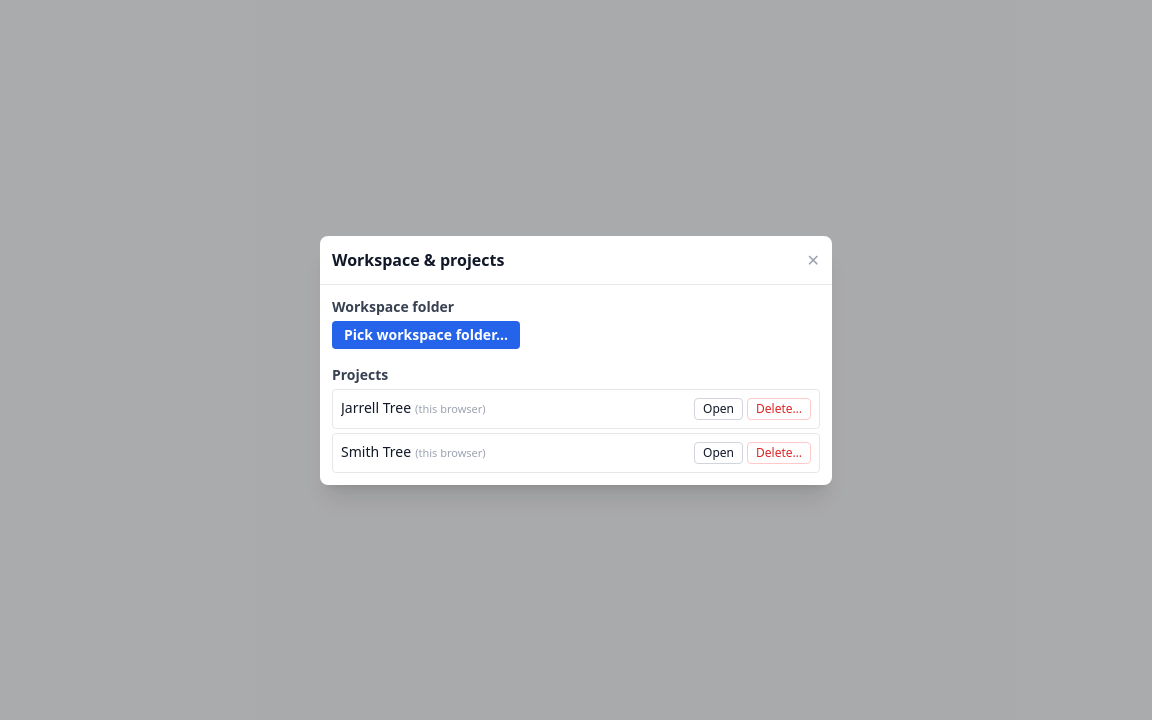
Test case: WorkspaceModal - deleting a project › cancels without deleting, and re-arms cleanly
Click the button "Delete…" in the row of "Jarrell Tree" at x=779, y=408, box top-left (747, 398), bottom-right (811, 420)
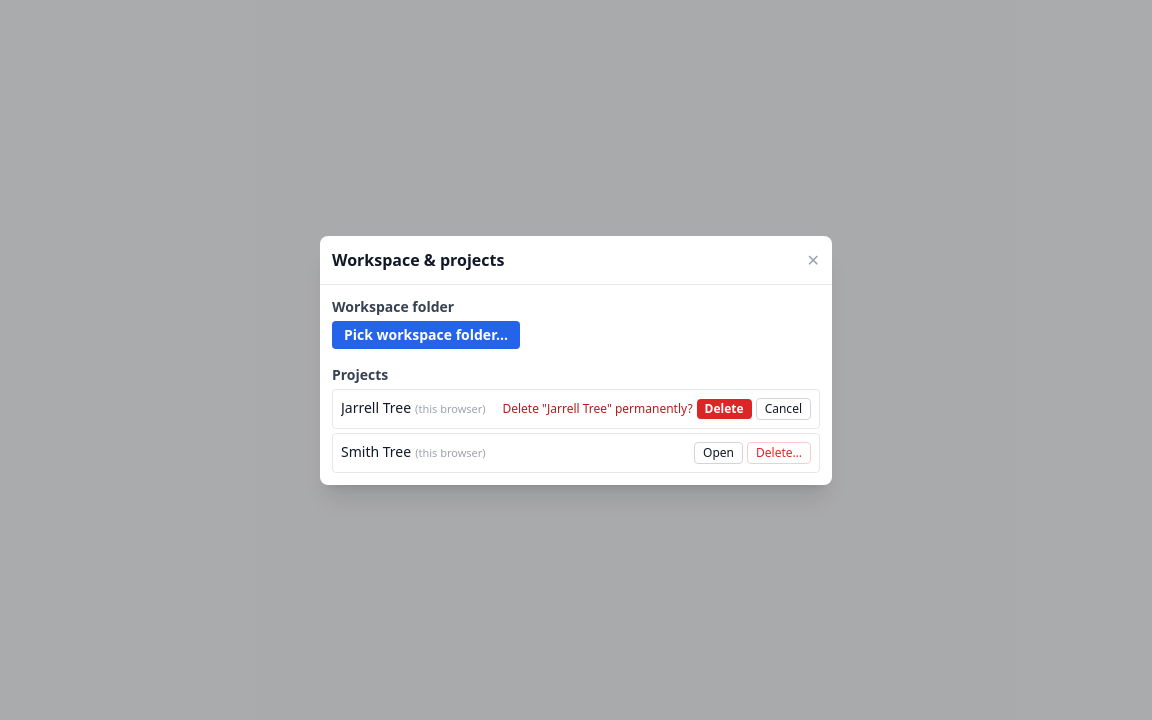
Click the button "Cancel" at x=783, y=408, box top-left (756, 398), bottom-right (811, 420)
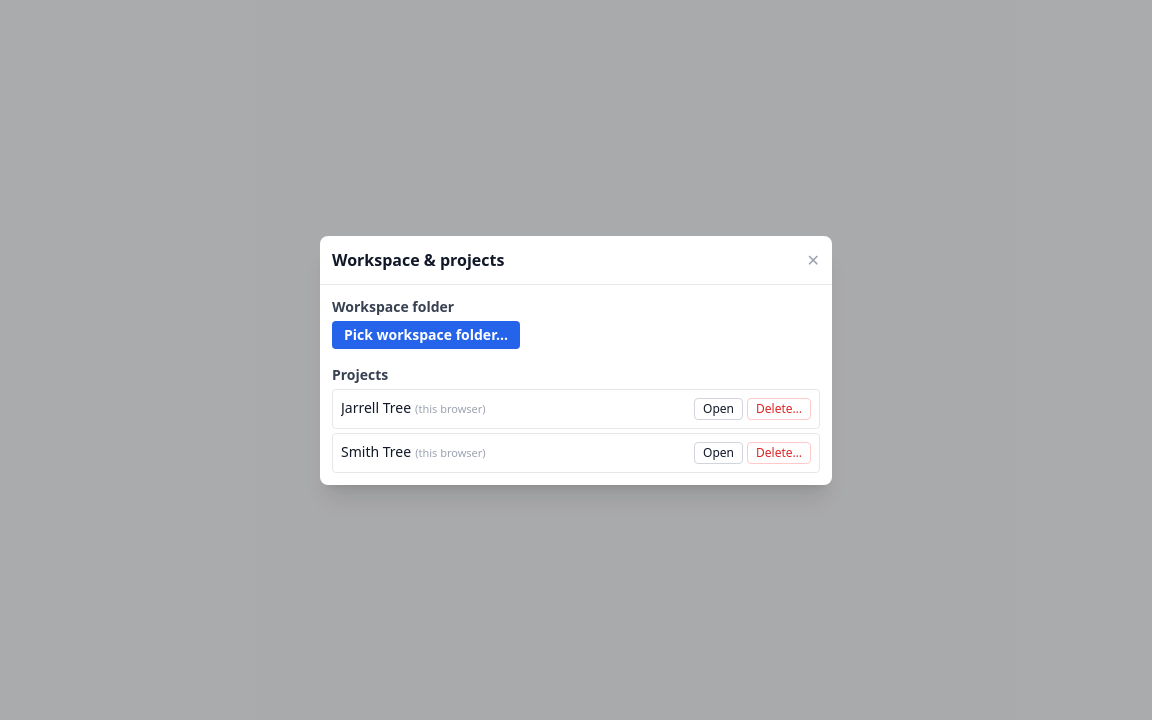
Expected: the number of buttons "Delete…" is 2, top-left (747, 398), bottom-right (811, 420); top-left (747, 442), bottom-right (811, 464)
Expected: the text "permanently" is gone
